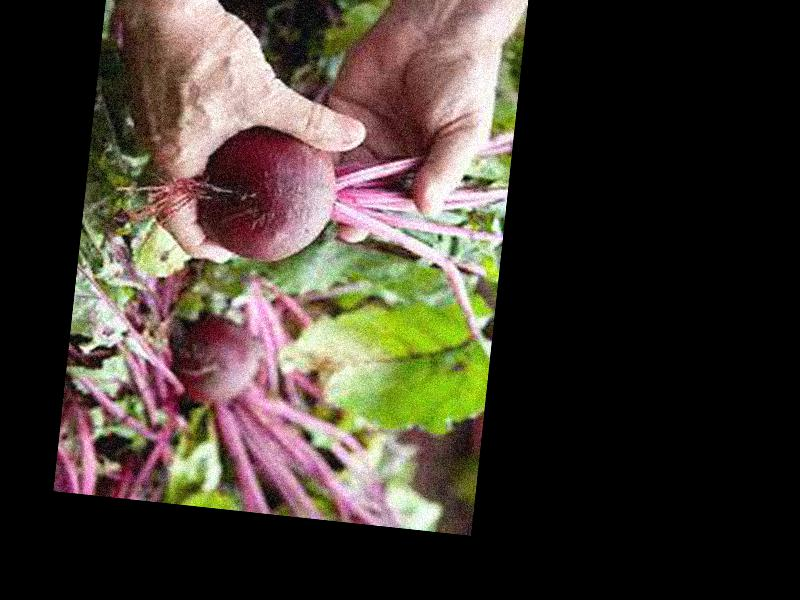Beet: (183, 117, 509, 358)
